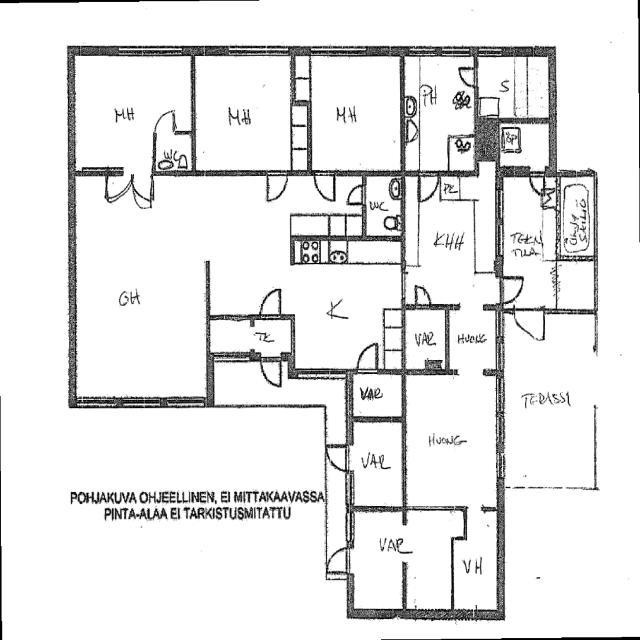door: (513, 306, 545, 342), (106, 171, 134, 203), (257, 285, 284, 317), (130, 172, 154, 206), (151, 106, 179, 135), (325, 544, 351, 575), (355, 340, 380, 372), (313, 170, 336, 203), (260, 355, 282, 387), (266, 170, 288, 202), (326, 443, 350, 472), (418, 172, 439, 203), (502, 275, 524, 304), (345, 180, 365, 204), (457, 66, 476, 88)
window: (453, 366, 486, 378), (457, 302, 485, 312)
zone: (500, 311, 597, 489), (290, 249, 402, 372), (72, 53, 192, 162), (294, 55, 404, 171), (404, 373, 497, 508), (194, 54, 298, 173), (417, 193, 478, 299), (349, 510, 406, 612), (404, 509, 455, 612), (348, 418, 405, 508), (452, 513, 502, 615), (410, 114, 478, 173), (447, 308, 499, 372), (403, 308, 448, 372), (476, 56, 523, 117), (560, 176, 594, 258), (349, 370, 404, 420), (499, 122, 552, 173), (364, 172, 404, 238), (555, 259, 597, 313), (208, 317, 252, 358), (252, 318, 293, 358), (154, 132, 194, 172), (449, 131, 475, 174)
